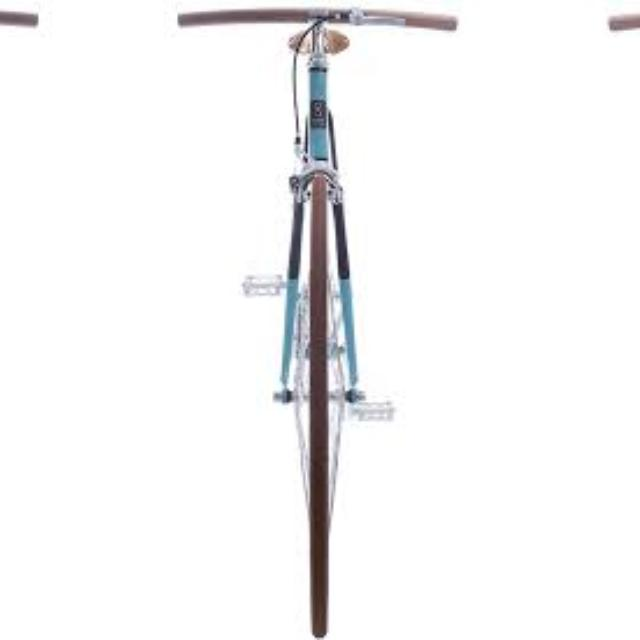obstacle: (162, 4, 470, 640), (0, 4, 52, 640), (595, 4, 640, 640)
